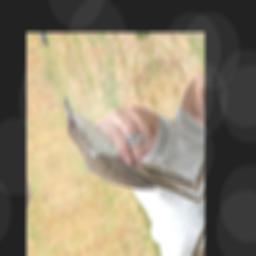Cuckoo: (57, 58, 202, 246)
